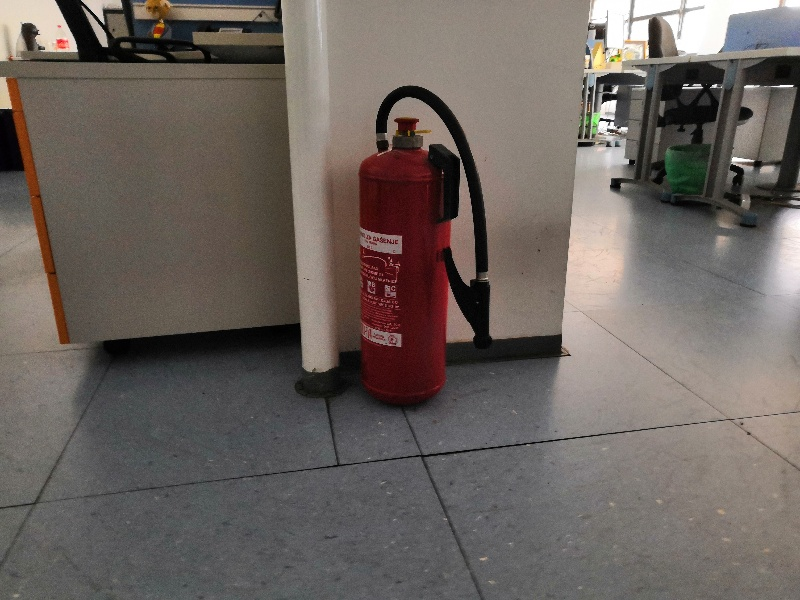vataparat: (360, 86, 492, 403)
